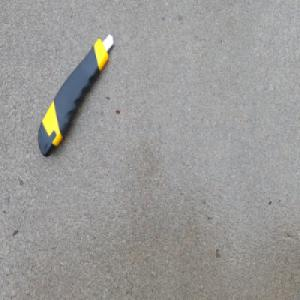Cutter: (36, 32, 114, 158)
